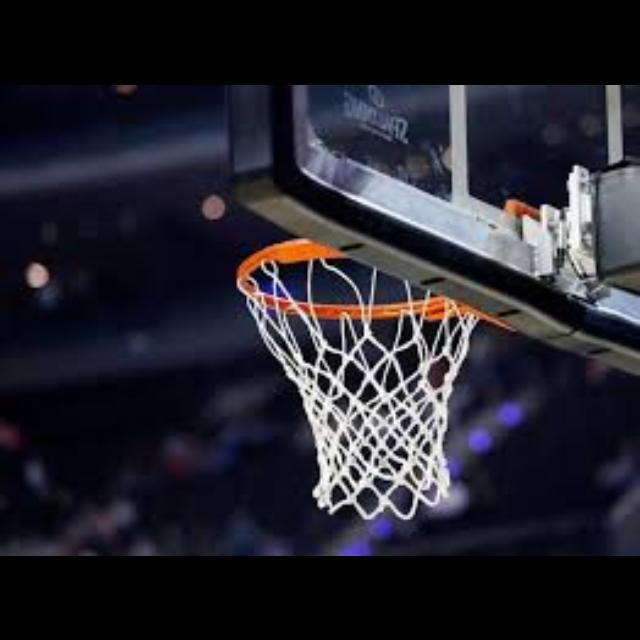rim: (236, 237, 482, 521)
